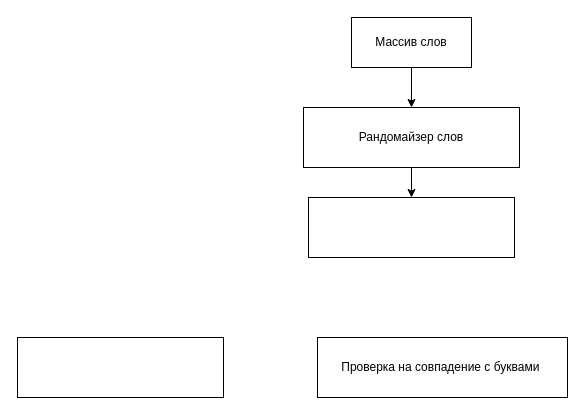
Some shapes in this 585 by 415 pixel diagram are drawn without their labels. The shapes that lost their labels are listed below. From the top down, each one's centre as x and y in pixels, then its label:
At point (411, 227): "Вывод рандомного слова".
At point (120, 367): "События с клавиатуры".
